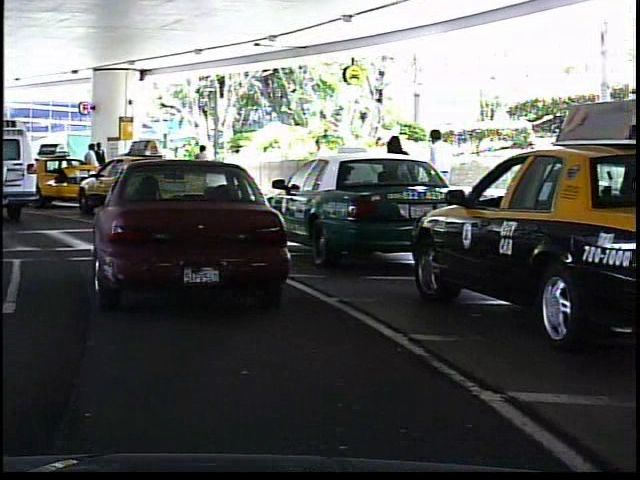person: (420, 120, 462, 228), (379, 127, 414, 228), (303, 130, 331, 204), (189, 139, 214, 190), (82, 143, 99, 196), (94, 140, 108, 193)
